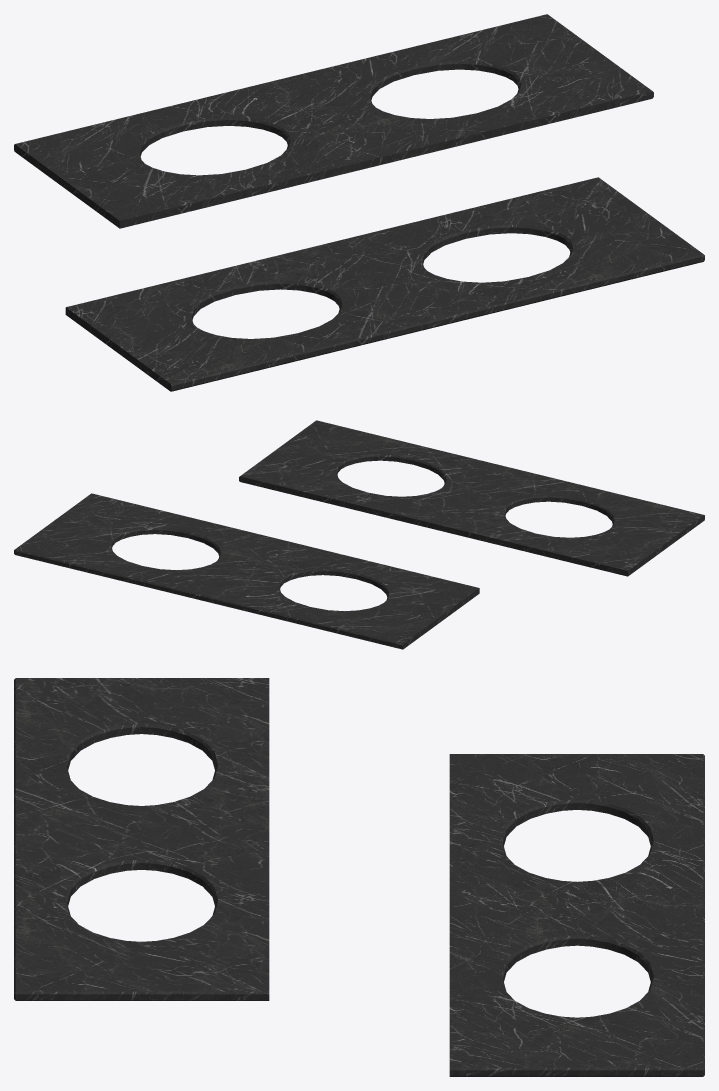
File: 2345_bathroom_CounterTops_QuartzEtNoir.gltf
The picture shows the model from 3 angles, top to bottom: view 1: azimuth 30°, elevation 25°; view 2: azimuth 150°, elevation 25°; view 3: azimuth 270°, elevation 25°; orthographic projection. The views are drawn at different scales.
Parts seen in each view (by area): view 1: Line23784; view 2: Line23784; view 3: Line23784.
Part boxes in pixels (x1,y1,x2,y2): Line23784: (14, 14, 704, 391); Line23784: (14, 420, 704, 649); Line23784: (14, 678, 704, 1076).
Bounding box in the file's own units: 3.6 × 0.04 × 2.7.
1 material, 1 textured.
